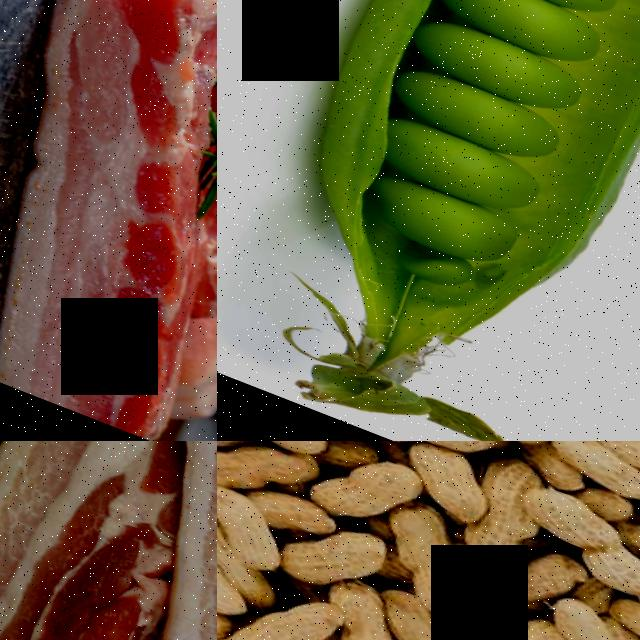peanuts: (505, 478, 632, 566), (375, 528, 479, 626), (405, 442, 497, 528), (327, 446, 418, 518), (541, 441, 640, 502), (245, 482, 336, 541), (310, 522, 386, 588), (530, 592, 621, 640), (314, 605, 396, 640), (217, 537, 251, 620), (578, 441, 640, 486), (472, 610, 561, 640), (289, 441, 420, 460), (595, 588, 640, 640)
peas: (309, 0, 640, 321)
pork belly: (0, 0, 217, 440), (0, 441, 217, 640), (60, 441, 217, 640)
